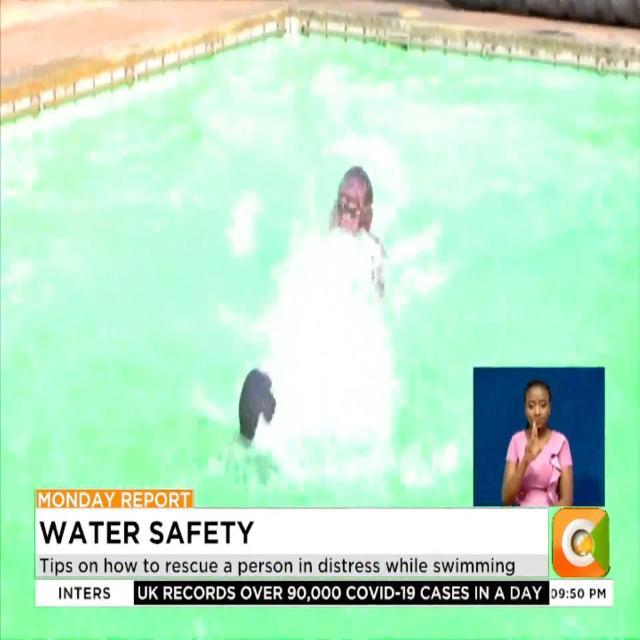drowning: (215, 342, 300, 470)
swimming: (312, 145, 397, 324)
